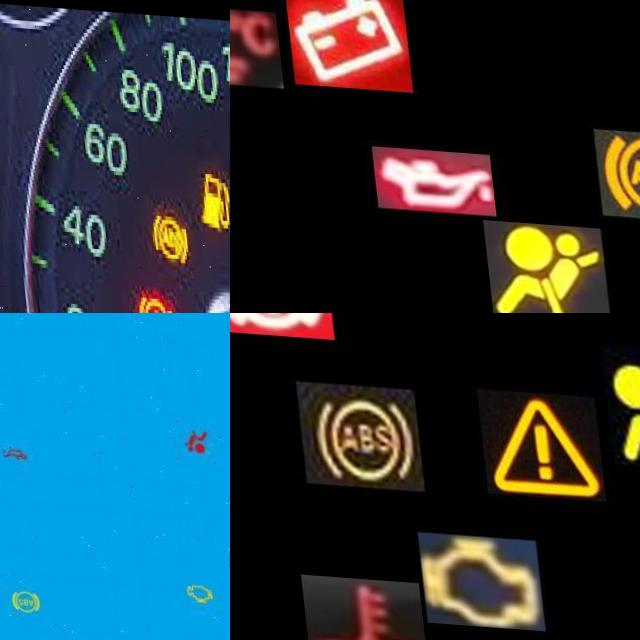Central Warning lamp: (472, 384, 600, 496)
Engine cooling system: (291, 573, 418, 640), (230, 3, 274, 86)
